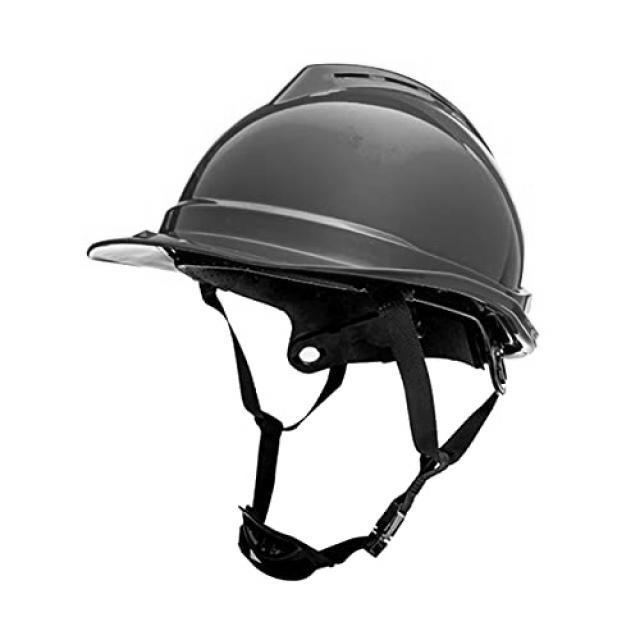safety_helmet: (84, 61, 540, 584)
